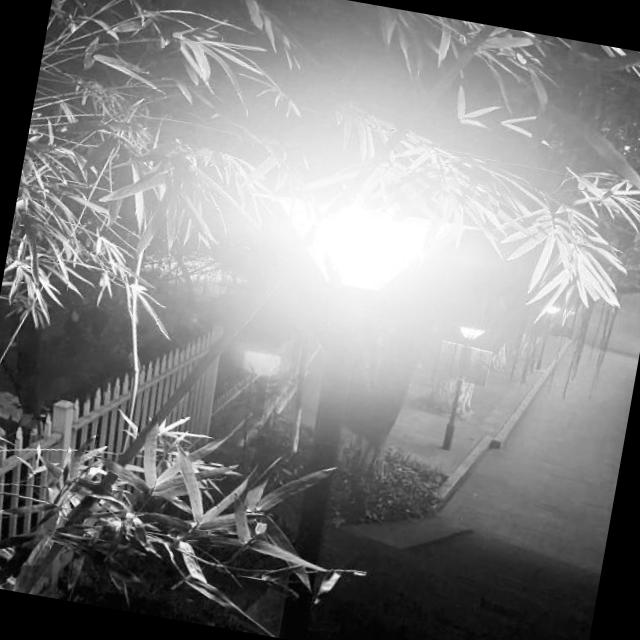Light: (251, 176, 466, 318)
